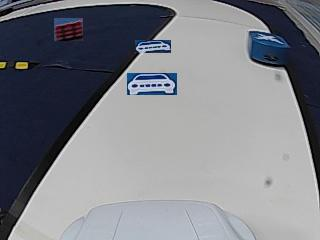prop: (249, 31, 289, 66)
